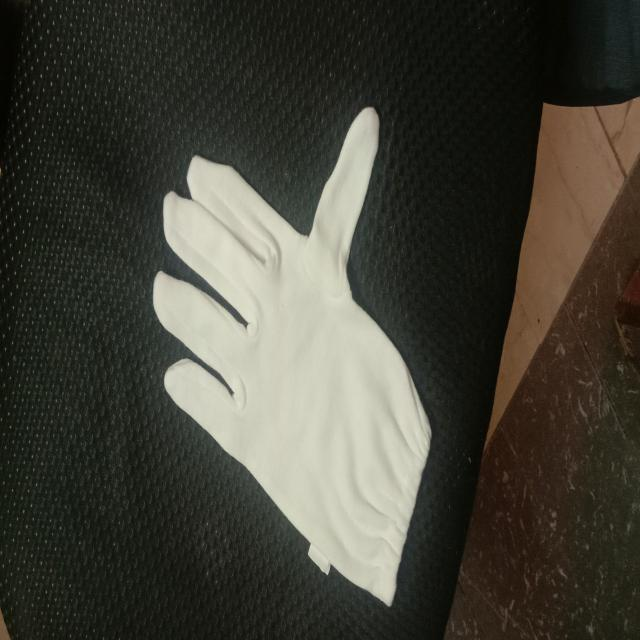glove_hand: (148, 99, 434, 610)
